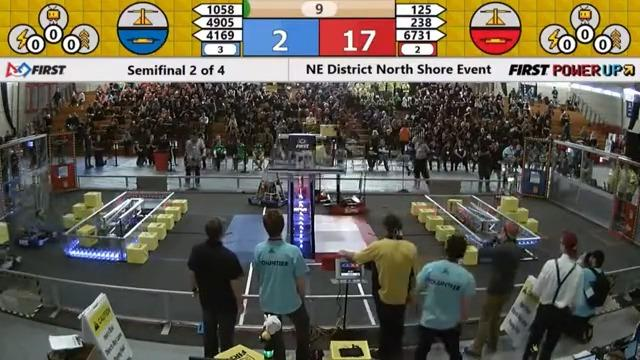robot: (318, 123, 368, 216), (16, 180, 60, 250), (245, 154, 289, 210), (0, 220, 23, 271)
